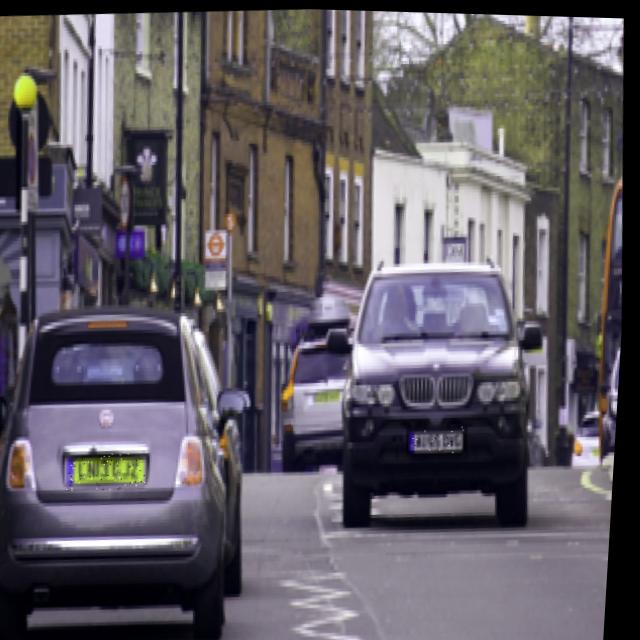license_plate: (71, 450, 153, 492), (411, 422, 474, 452)
